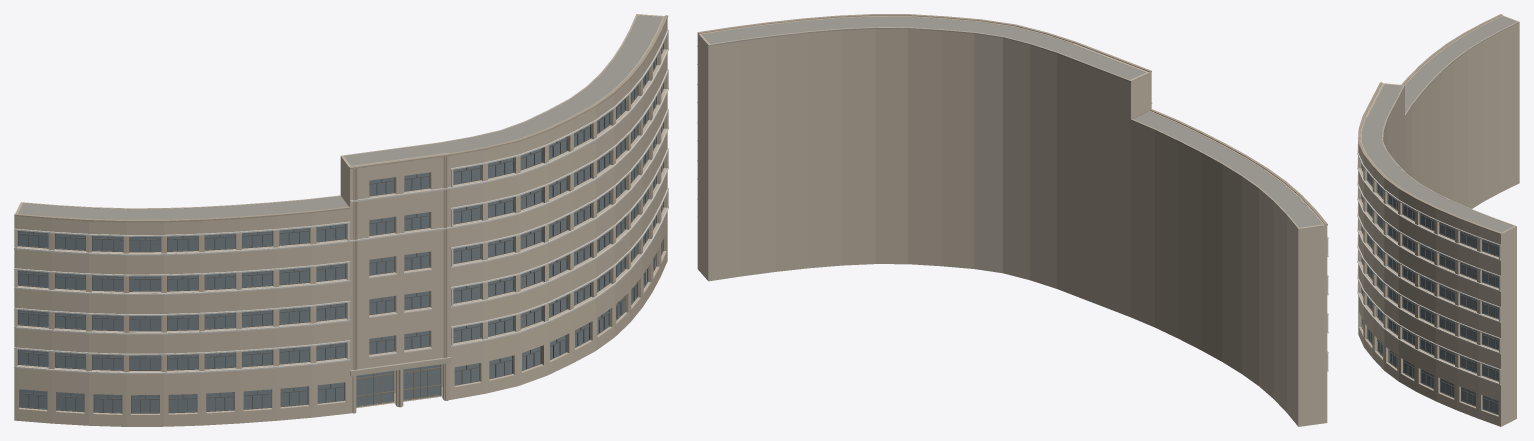
Rendered from huangpu-texaco-building-lod.glb.
3 views of the same model, side by side, from view 1: azimuth 30°, elevation 25°; view 2: azimuth 150°, elevation 25°; view 3: azimuth 270°, elevation 25° (orthographic). The views are drawn at different scales.
Parts seen in each view (by area): view 1: 德士古大楼（延安东路110号弧形街墙及入口）; view 2: 德士古大楼（延安东路110号弧形街墙及入口）; view 3: 德士古大楼（延安东路110号弧形街墙及入口）.
Boxes of the visible parts, x1,y1,x2,y2 form: 德士古大楼（延安东路110号弧形街墙及入口）: (14, 14, 668, 426); 德士古大楼（延安东路110号弧形街墙及入口）: (697, 14, 1328, 426); 德士古大楼（延安东路110号弧形街墙及入口）: (1357, 14, 1519, 426).
Bounding box in the file's own units: 63.4 × 22.74 × 17.29.
